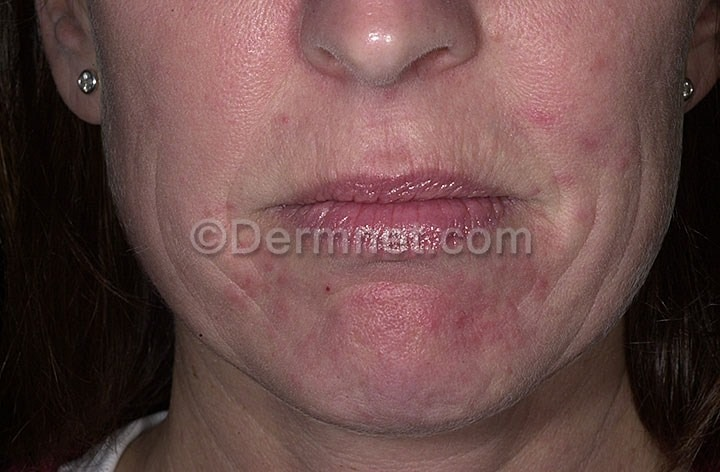Acne: (133, 91, 635, 397)
